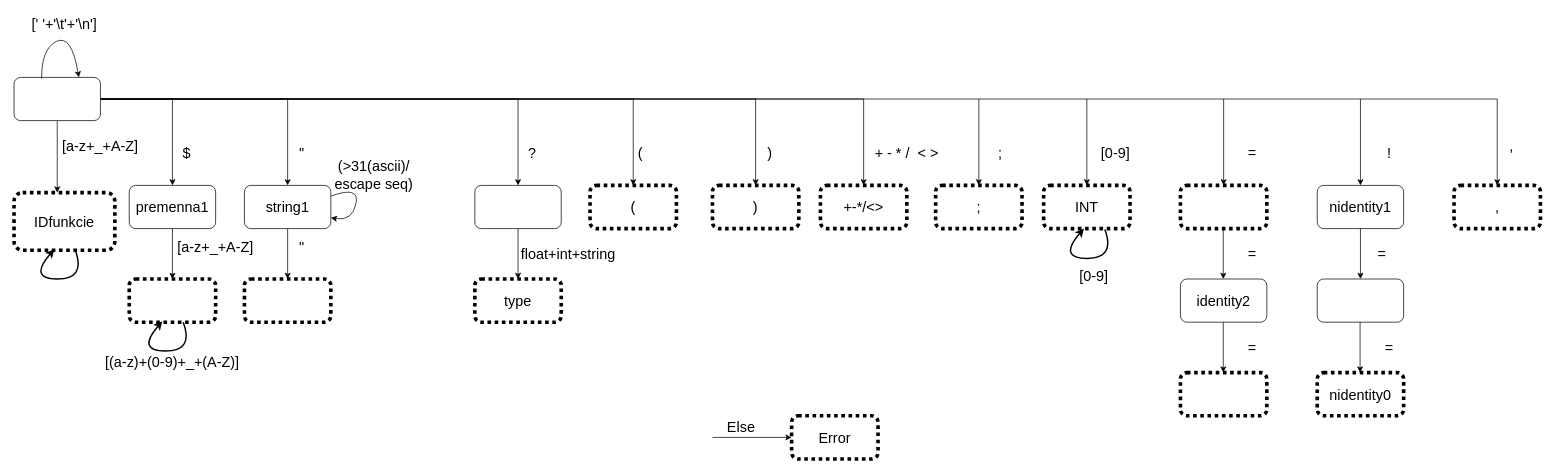
This 1554x473 diagram has some shape labels left out. Each missing label, with the centre of its shape:
"identity0" belongs at (x=1223, y=393).
"identity1" belongs at (x=1223, y=206).
"nidentity2" belongs at (x=1360, y=300).
"premenna2" belongs at (x=172, y=300).
"Start" belongs at (x=56, y=99).
"string2" belongs at (x=287, y=300).
"type1" belongs at (x=517, y=207).
